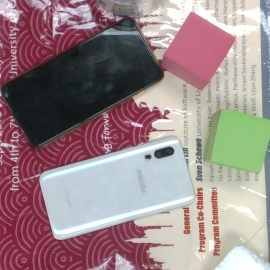phone: (2, 17, 163, 145)
